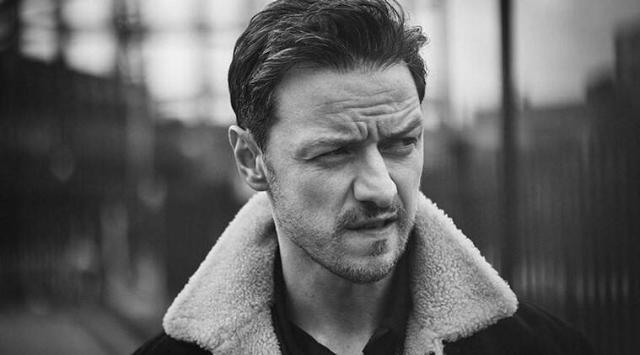forehead: (344, 97, 394, 119), (402, 94, 418, 120)
frown_line: (362, 120, 381, 146)
gummy_smile: (341, 177, 355, 211)
